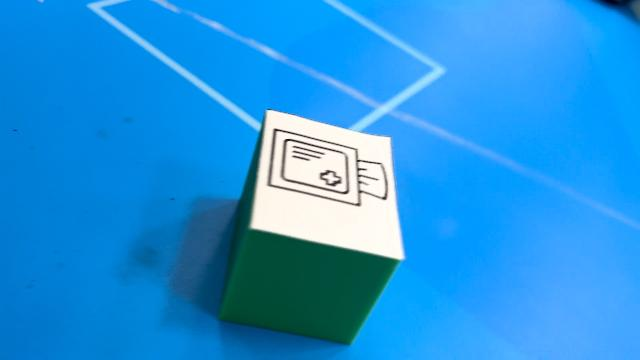napkin: (217, 110, 407, 346)
